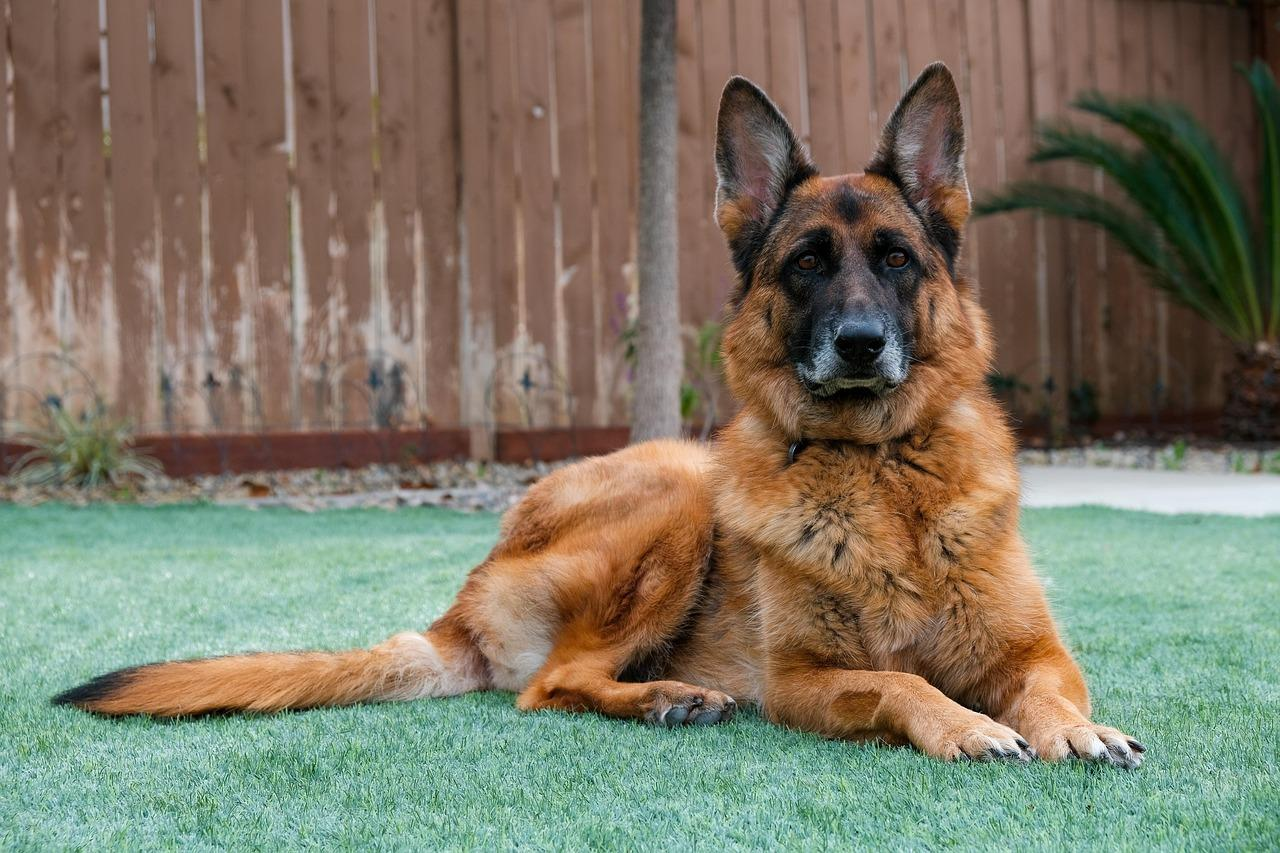german_shepherd: (703, 46, 997, 445)
